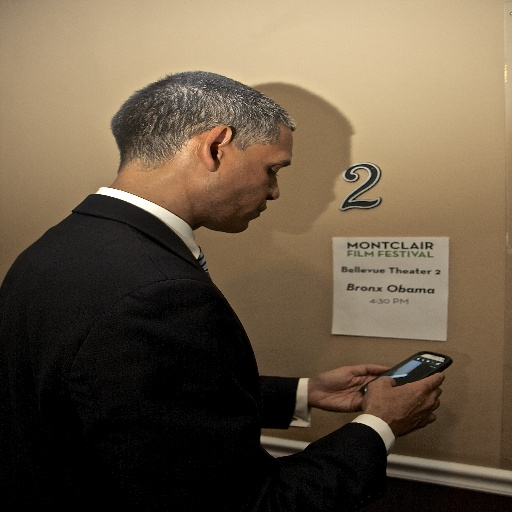hand: (358, 370, 444, 438)
